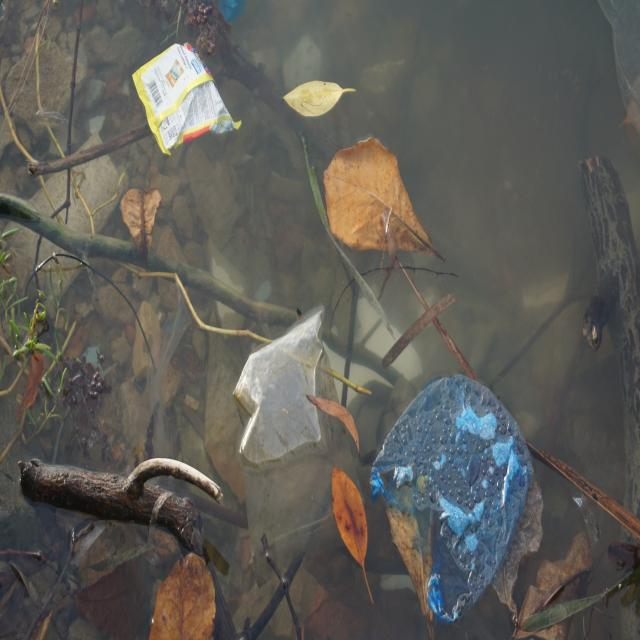Bungkus Makanan: (127, 42, 246, 159)
Kantong Plastik: (376, 376, 534, 626), (233, 307, 369, 539)
